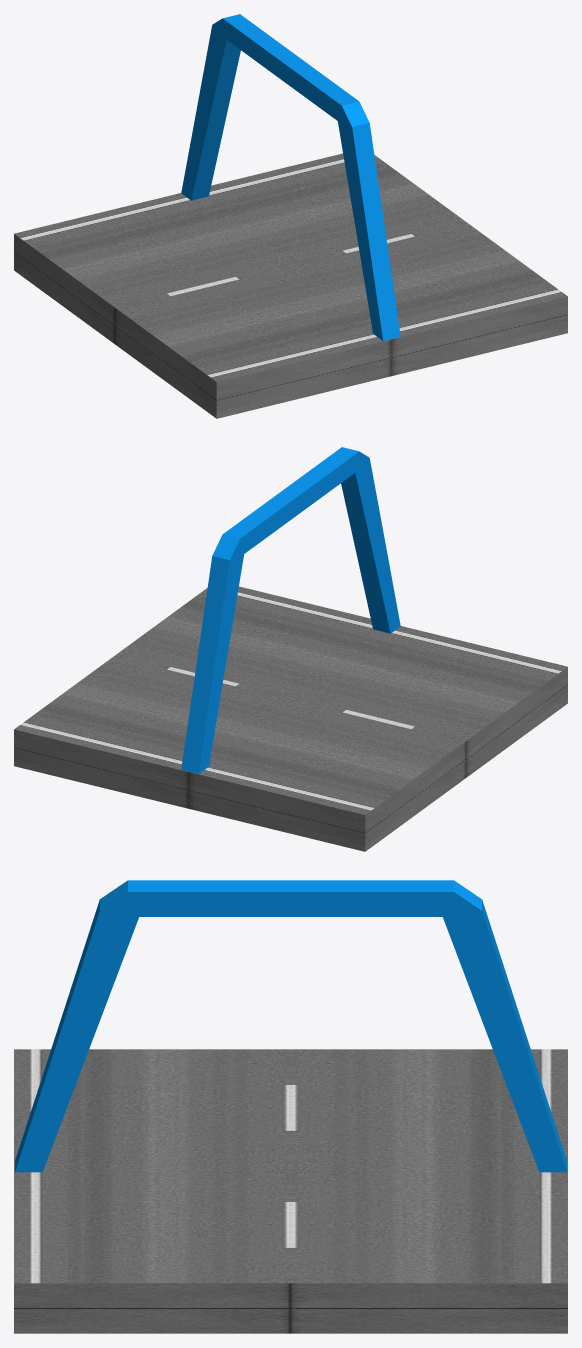
Rendered from checkpoint.fbx.
3 renders of one model, top to bottom at view 1: azimuth 30°, elevation 25°; view 2: azimuth 150°, elevation 25°; view 3: azimuth 270°, elevation 25°, orthographic. The views are drawn at different scales.
Visible parts, largest first — view 1: checkpoint; view 2: checkpoint; view 3: checkpoint.
Part boxes in pixels (left/top/right/bottom): checkpoint: left=14, top=14, right=567, bottom=418; checkpoint: left=14, top=447, right=567, bottom=851; checkpoint: left=14, top=880, right=567, bottom=1333.
Bounding box in the file's own units: 394 × 259 × 394.
3 materials, 2 textured.
